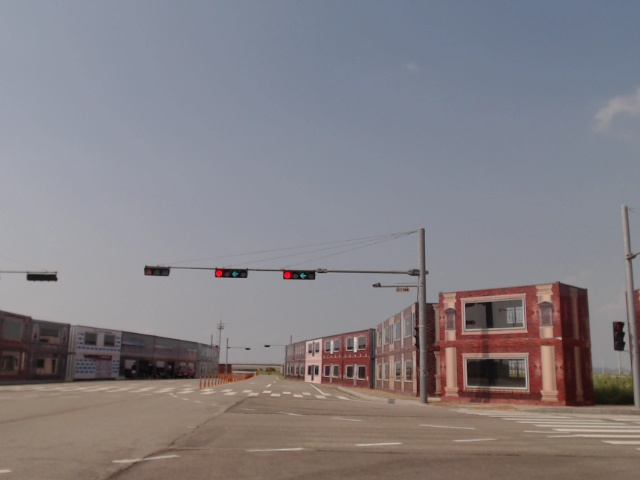left_green_4: (283, 271, 315, 280), (215, 269, 246, 278)
